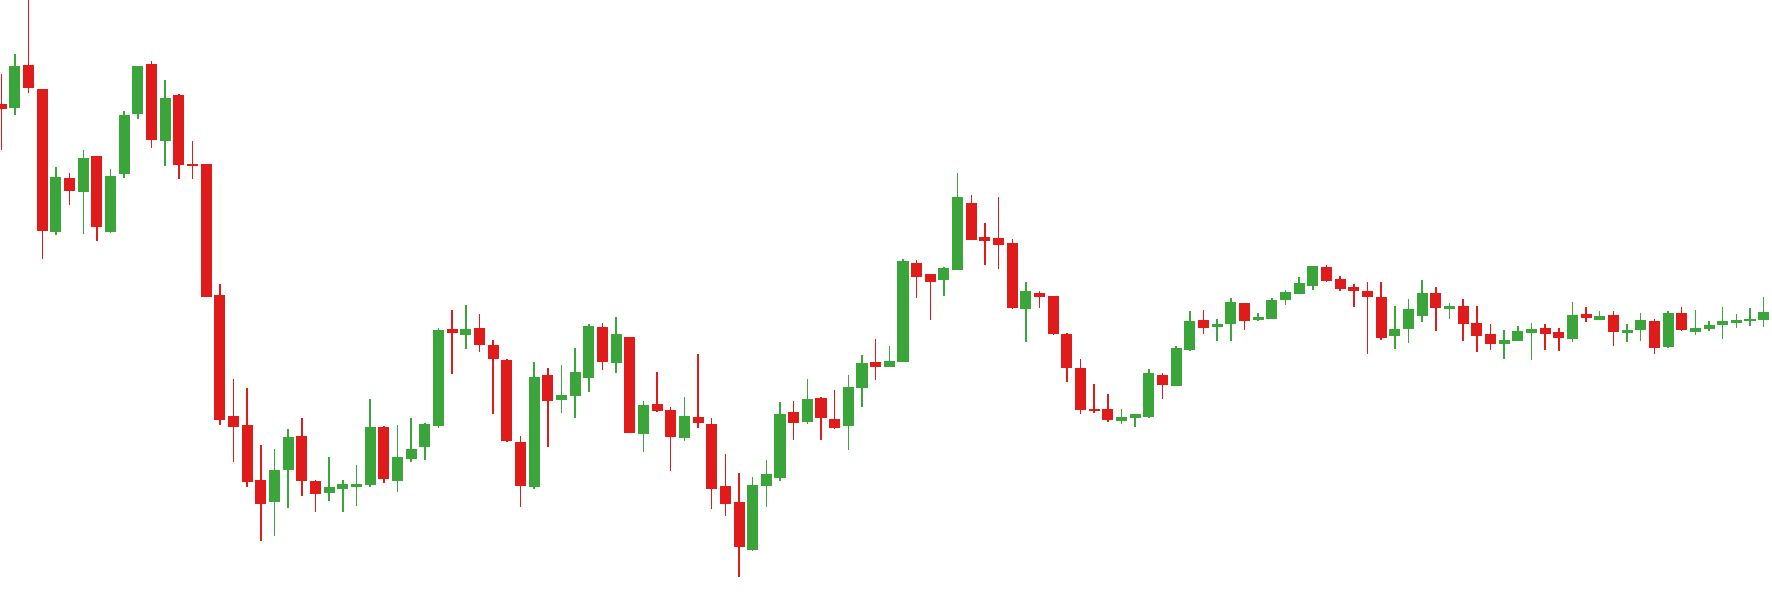buy: (514, 382, 761, 578)
